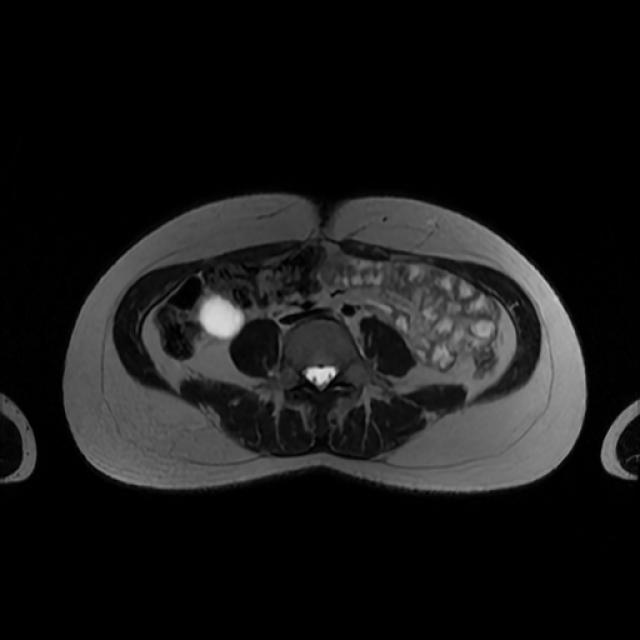sag: (197, 296, 246, 341)
